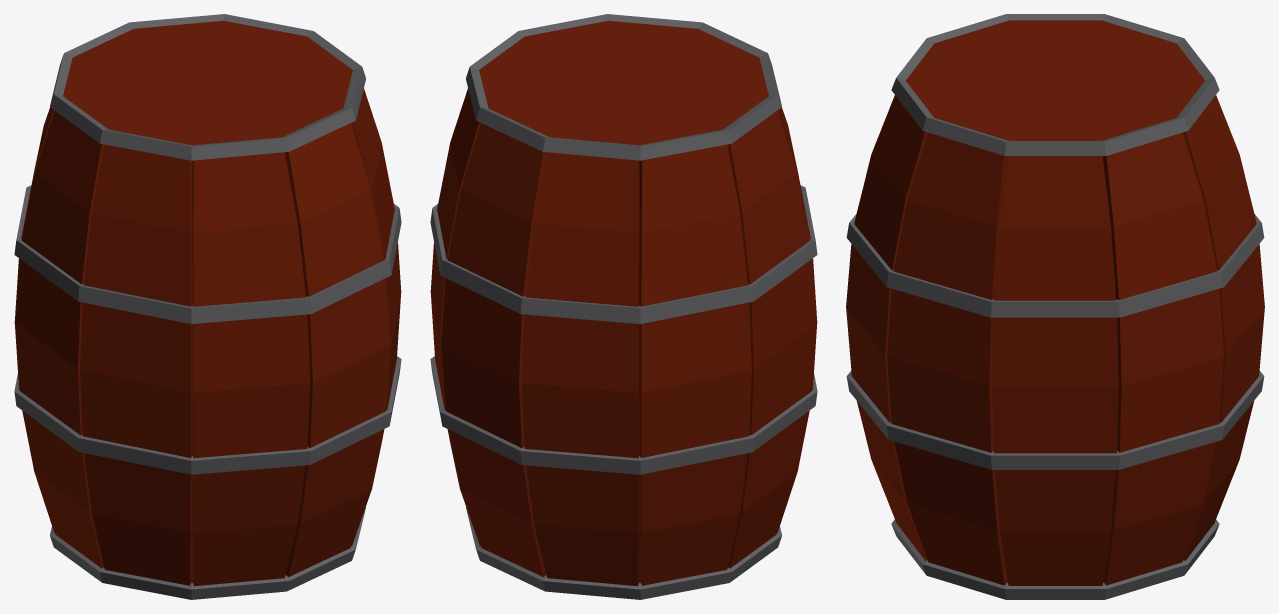
The model's file is barrel.obj.
3 renders of one model, left to right at view 1: azimuth 30°, elevation 25°; view 2: azimuth 150°, elevation 25°; view 3: azimuth 270°, elevation 25°, orthographic.
Parts seen in each view (by area): view 1: barrel_no_interior; view 2: barrel_no_interior; view 3: barrel_no_interior.
Boxes of the visible parts, x1=… form: barrel_no_interior: x1=14, y1=14, x2=401, y2=599; barrel_no_interior: x1=430, y1=14, x2=817, y2=599; barrel_no_interior: x1=846, y1=14, x2=1264, y2=599.
Size of the model in its own units: 0.7774 by 1.04 by 0.8628.
